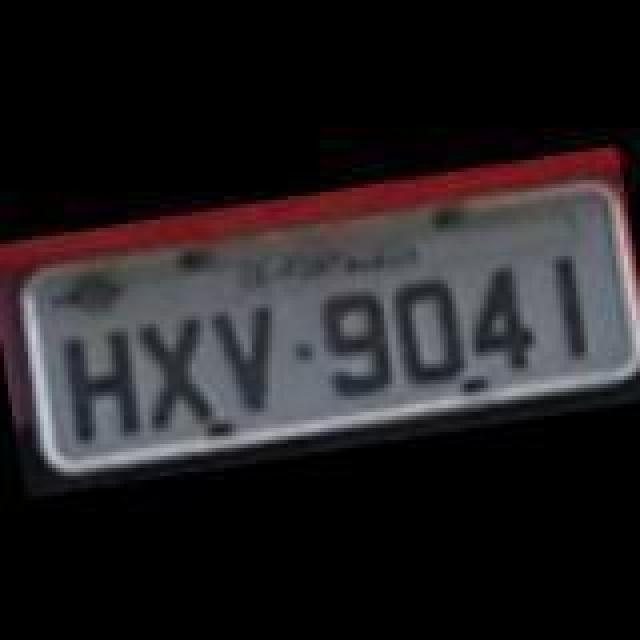1: (542, 250, 594, 358)
4: (458, 256, 542, 376)
9: (314, 282, 406, 406)
H: (60, 322, 148, 446)
O: (384, 270, 464, 386)
V: (204, 298, 292, 422)
X: (132, 308, 220, 428)
